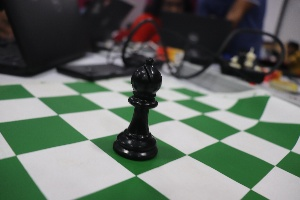black_bishop: (109, 46, 164, 166)
